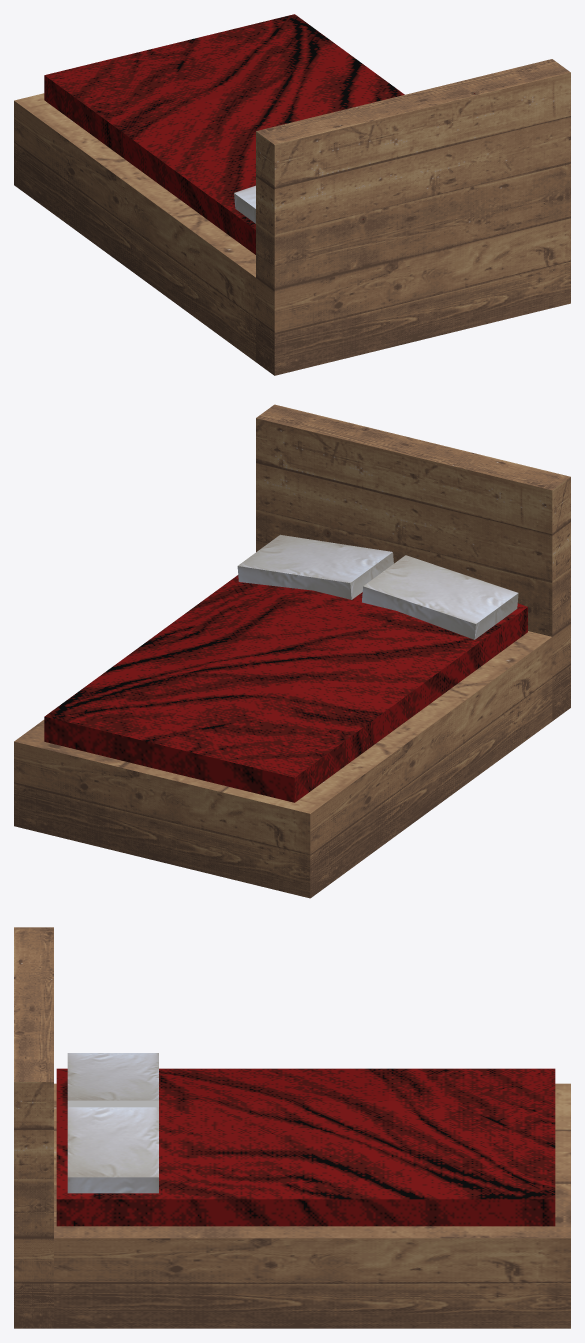
The model's file is Bed.fbx.
The picture shows the model from 3 angles, top to bottom: view 1: azimuth 30°, elevation 25°; view 2: azimuth 150°, elevation 25°; view 3: azimuth 270°, elevation 25°; orthographic projection. The views are drawn at different scales.
Parts seen in each view (by area): view 1: Cube.014; view 2: Cube.014; view 3: Cube.014.
Part boxes in pixels (bbox=[...]): Cube.014: bbox=[14, 14, 570, 375]; Cube.014: bbox=[14, 404, 570, 898]; Cube.014: bbox=[14, 927, 570, 1328].
Bounding box in the file's own units: 441 × 329 × 672.
